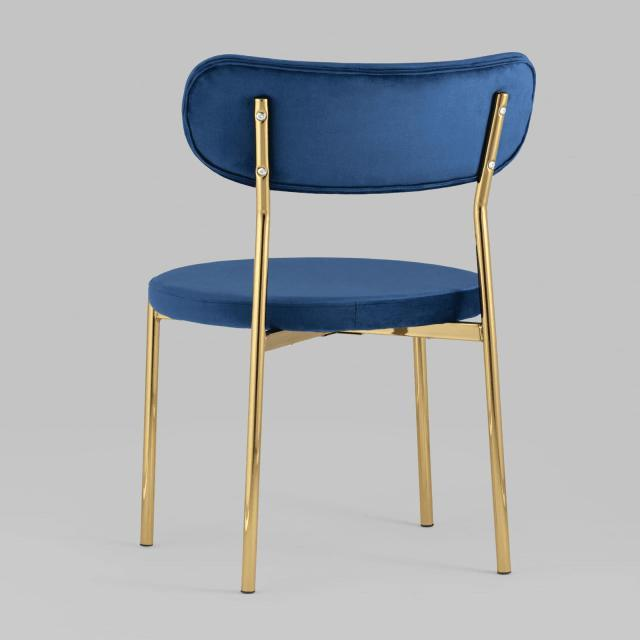chair: (137, 49, 547, 596)
